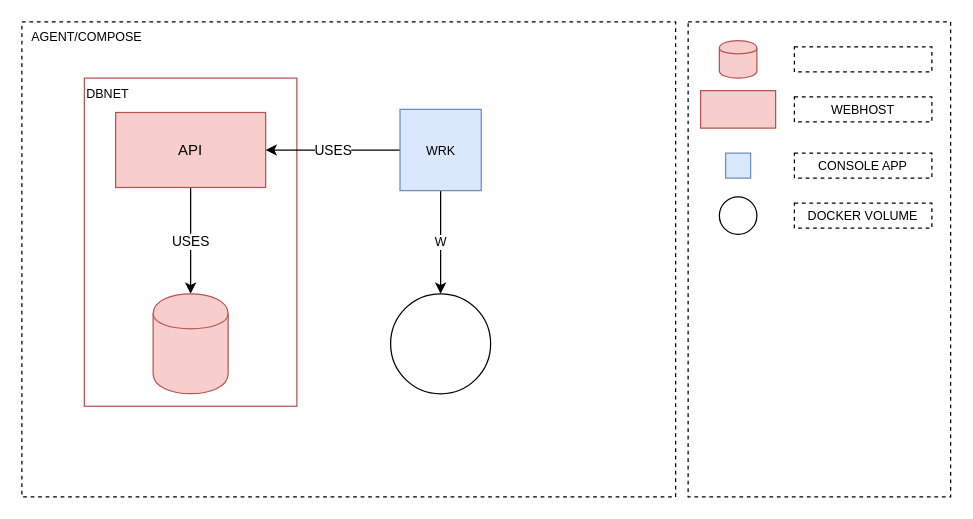
The diagram is 973 pixels wide and 519 high, and some of its shapes have lost their labels. Each missing label, with the centre of its shape:
DB: (190,343)
DOCKER DATABASE: (862,59)
WRK RESULTS: (440,343)
